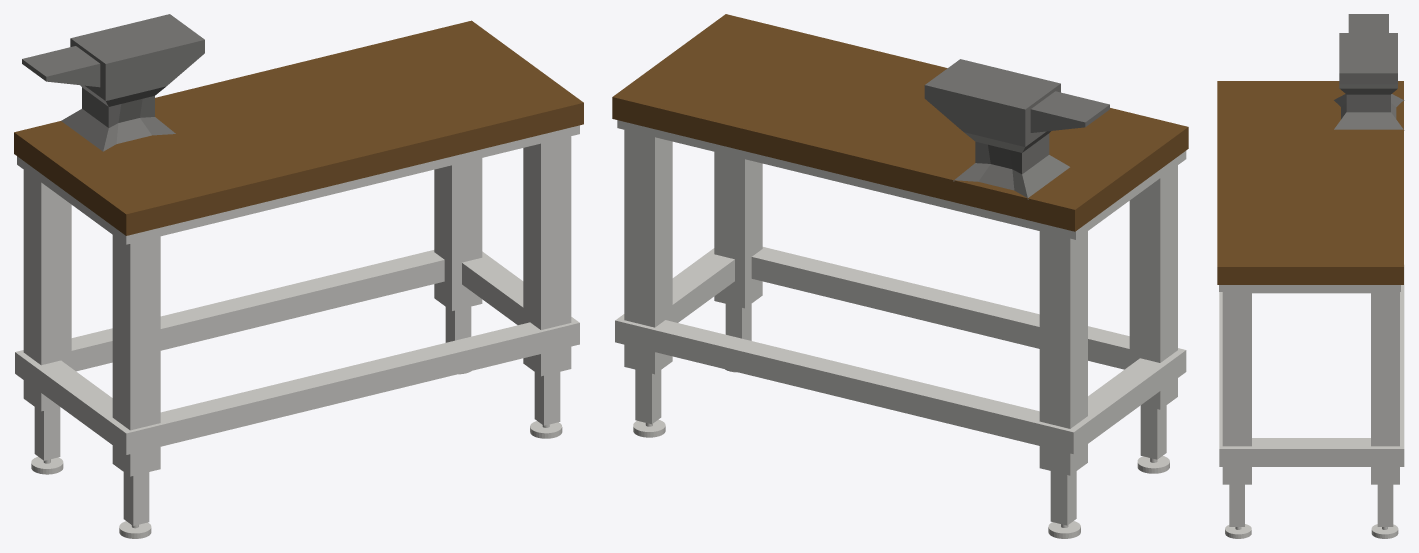
The model's file is bad table1.fbx.
The picture shows the model from 3 angles, left to right: view 1: azimuth 30°, elevation 25°; view 2: azimuth 150°, elevation 25°; view 3: azimuth 270°, elevation 25°; orthographic projection. The views are drawn at different scales.
Visible parts, largest first — view 1: Cube, Cube.005, Cube.007, Cube.004, Cube.001, Cube.002, Cube.003, Cube.006; view 2: Cube, Cube.005, Cube.007, Cube.002, Cube.003, Cube.004, Cube.001, Cube.006; view 3: Cube, Cube.005, Cube.007, Cube.001, Cube.003, Cube.006, Cylinder.003, Cylinder.002.
Part boxes in pixels (x1,y1,x2,y2): Cube: [14, 20, 583, 235]; Cube.005: [15, 250, 579, 454]; Cube.007: [22, 14, 204, 151]; Cube.004: [112, 235, 160, 525]; Cube.001: [523, 136, 571, 425]; Cube.002: [23, 170, 71, 460]; Cube.003: [434, 158, 482, 342]; Cube.006: [17, 125, 579, 244]; Cube: [612, 14, 1188, 231]; Cube.005: [615, 247, 1186, 454]; Cube.007: [924, 59, 1109, 199]; Cube.002: [1039, 231, 1087, 525]; Cube.003: [624, 130, 672, 424]; Cube.004: [1129, 165, 1177, 459]; Cube.001: [714, 152, 762, 340]; Cube.006: [617, 120, 1186, 239]; Cube: [1217, 81, 1403, 284]; Cube.005: [1219, 265, 1404, 466]; Cube.007: [1334, 14, 1404, 130]; Cube.001: [1222, 292, 1251, 526]; Cube.003: [1371, 292, 1399, 526]; Cube.006: [1219, 285, 1400, 291]; Cylinder.003: [1371, 524, 1398, 538]; Cylinder.002: [1225, 524, 1251, 538].
Size of the model in its own units: 271 by 235 by 115.
